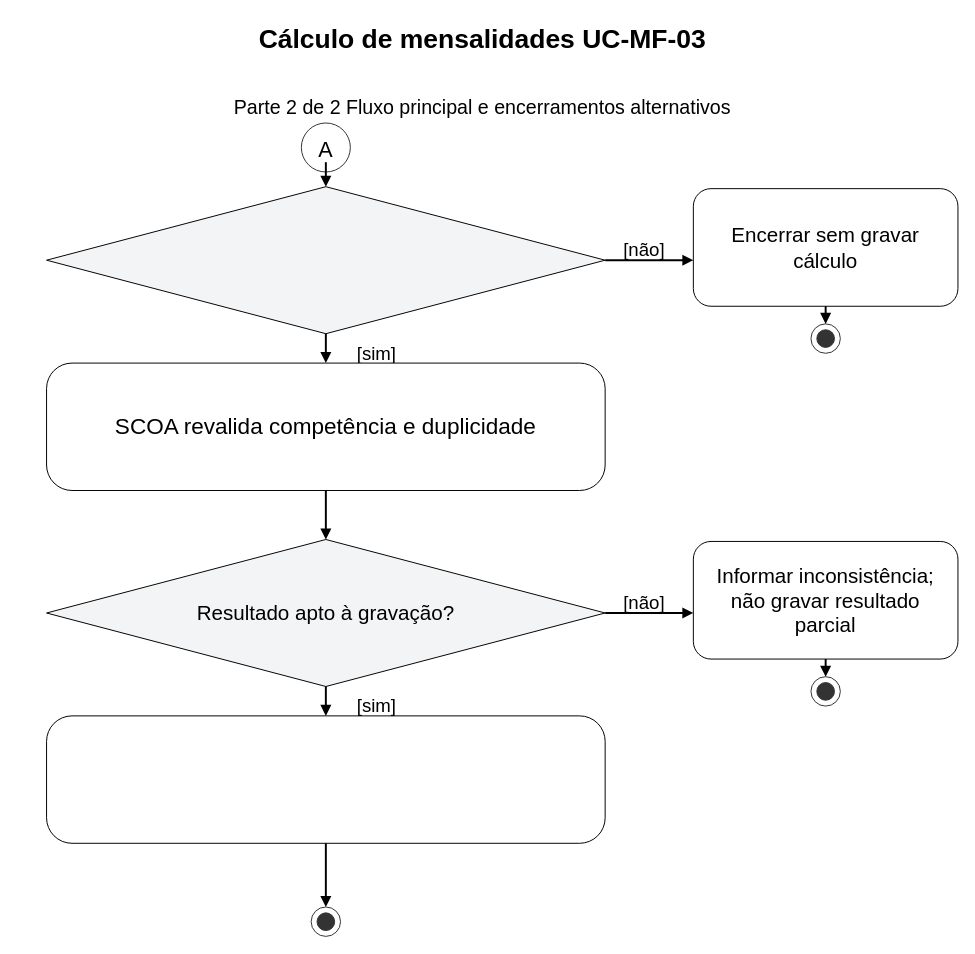
The diagram is 975 pixels wide and 954 high, and some of its shapes have lost their labels. Here are the shapes that lost their labels. From the top down, the centre of each, then its label:
At (325,260): "Funcionário confirma resumo válido?".
At (325,779): "SCOA registra mensalidades e apresenta resultados".
